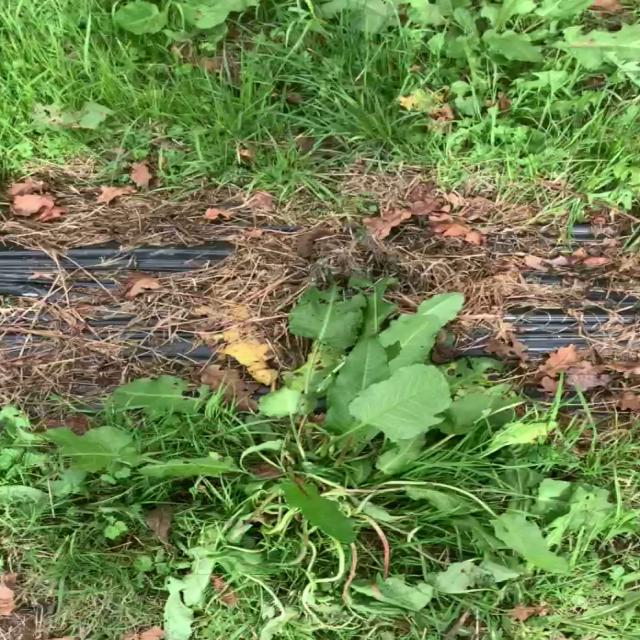organic waste: (74, 294, 564, 622), (343, 0, 640, 88), (97, 0, 252, 45)
